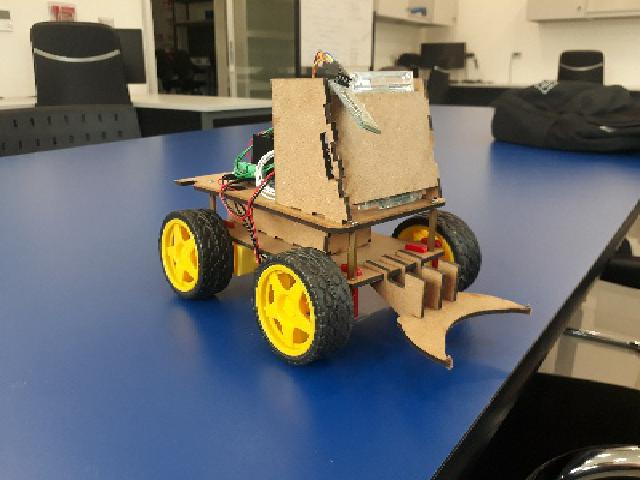Robot: (157, 53, 534, 372)
